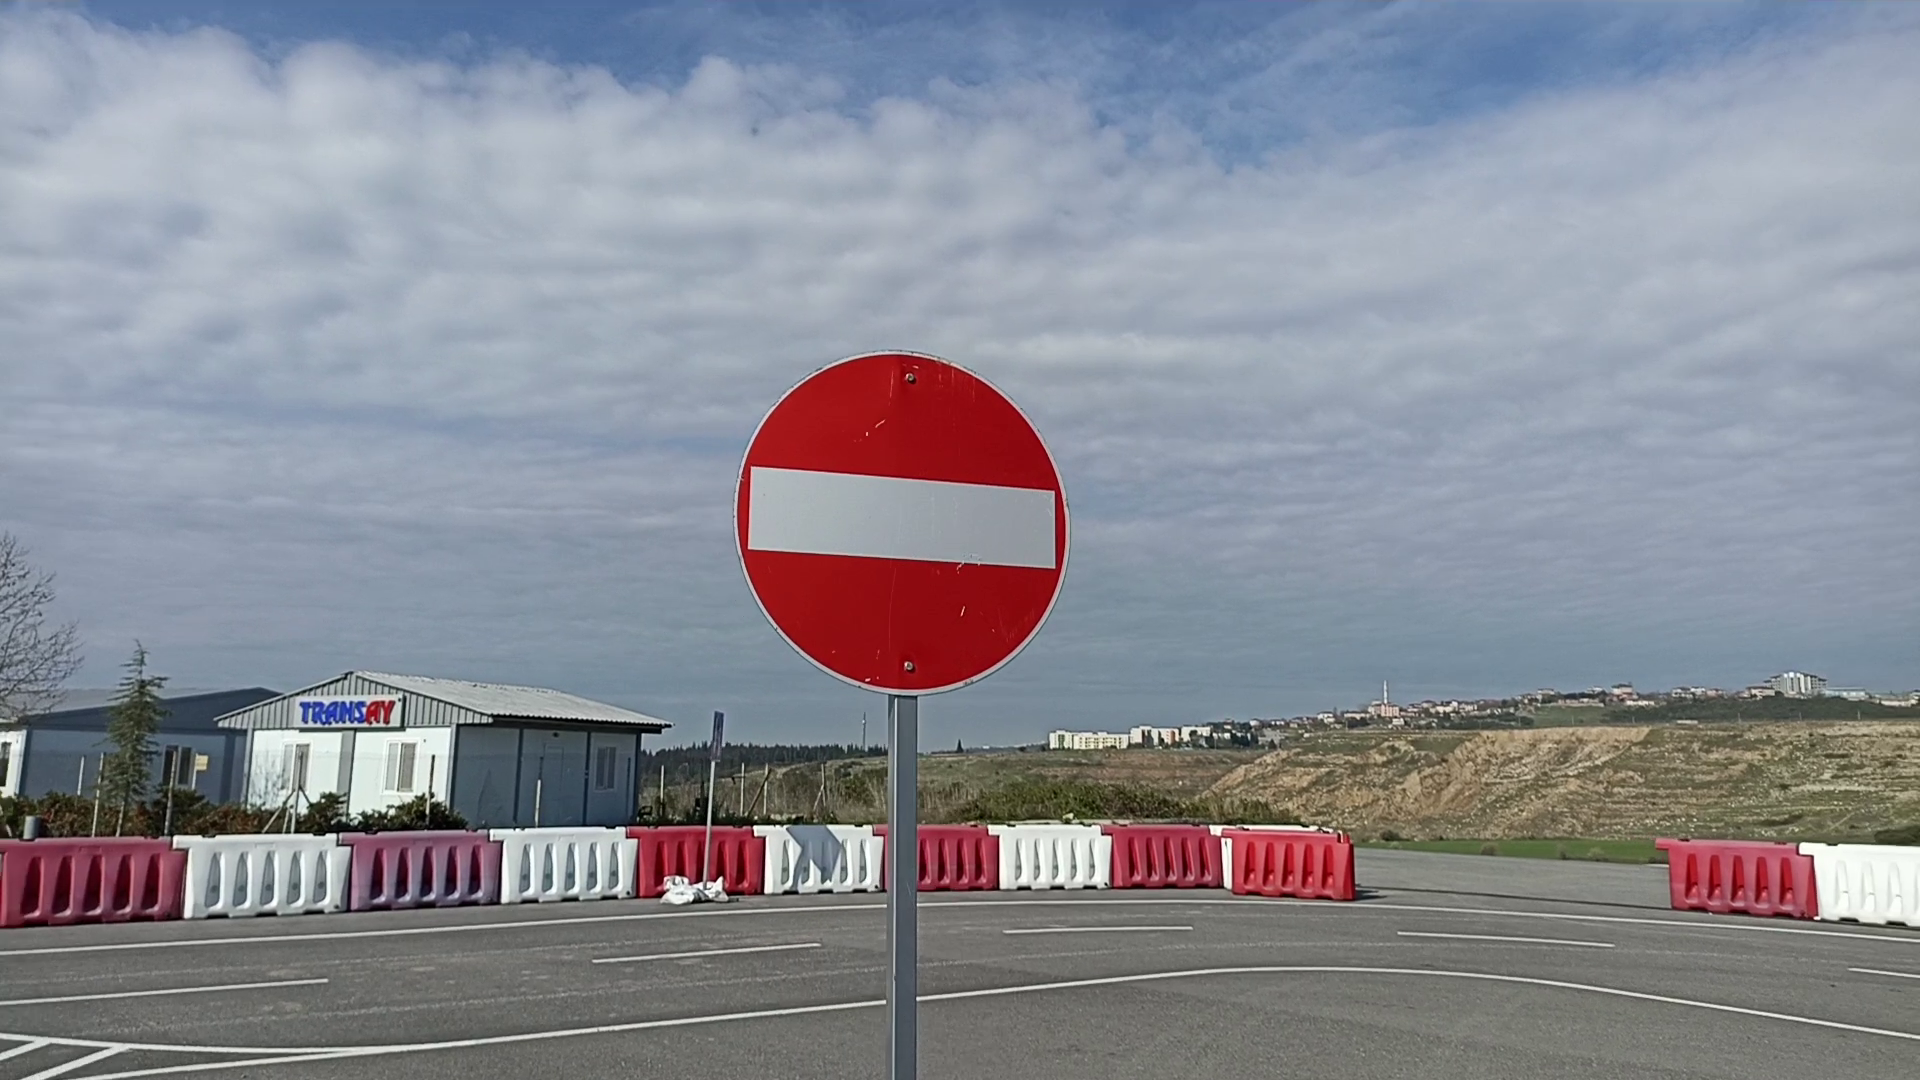noentryway: (728, 342, 1077, 704)
